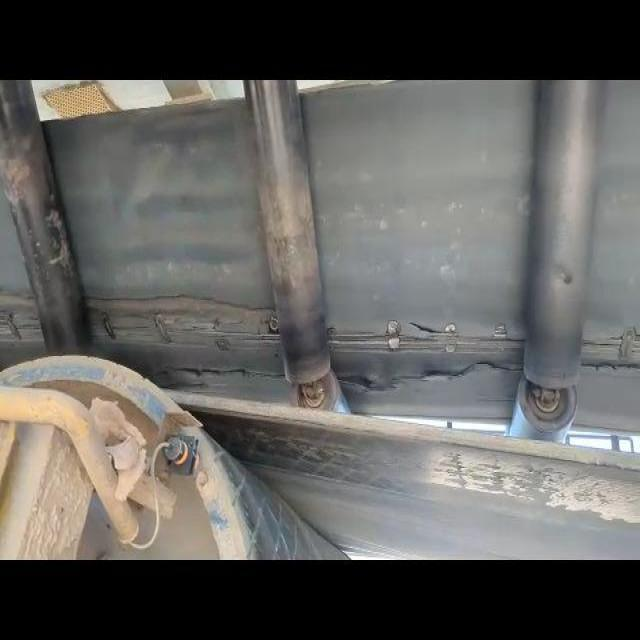Tear: (80, 286, 282, 350), (324, 315, 528, 365), (325, 356, 527, 398), (576, 321, 640, 377), (0, 282, 51, 350), (134, 366, 294, 384)
